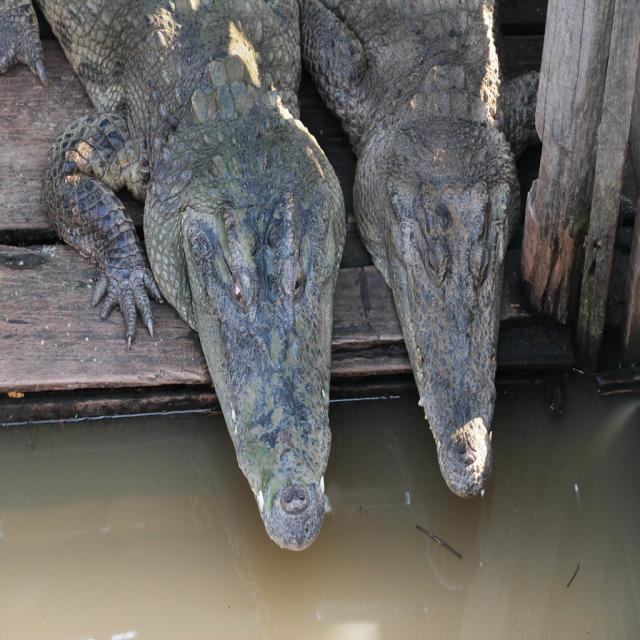crocodile: (0, 0, 610, 599)
